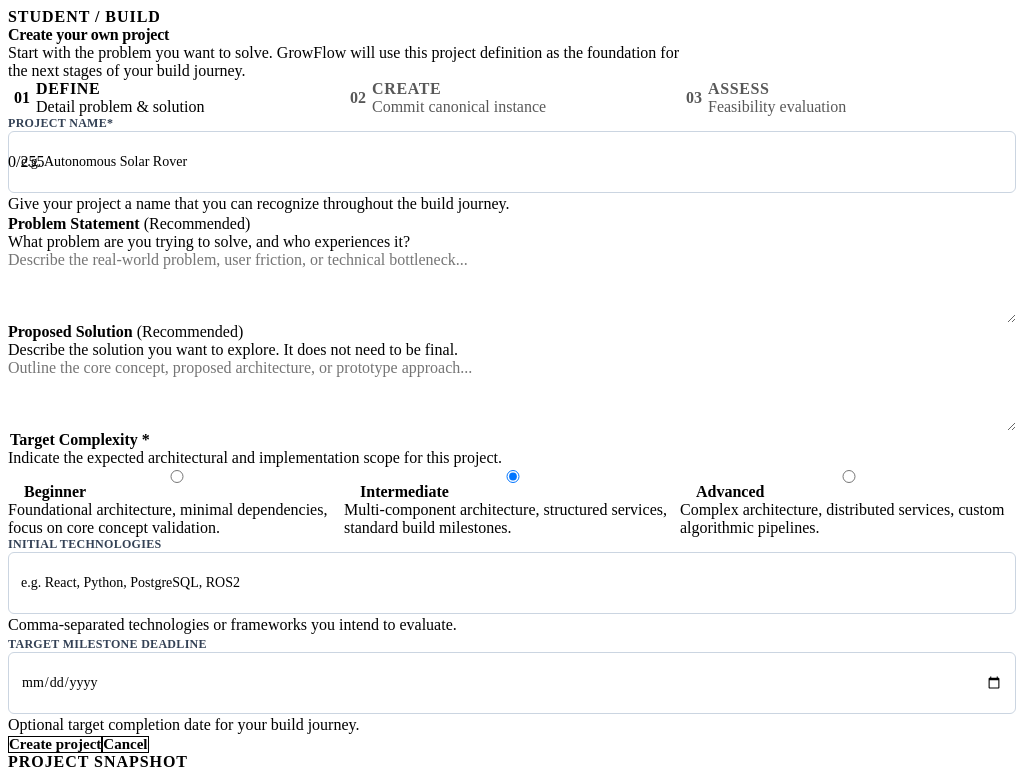
Test case: S03 — Student Project Create (/student/projects/new) › 12. preserves form data on 422 validation failure and displays calm message
Type "My Valid Title" into the field labelled "Project Name *" at (512, 162), box top-left (8, 131), bottom-right (1016, 193)
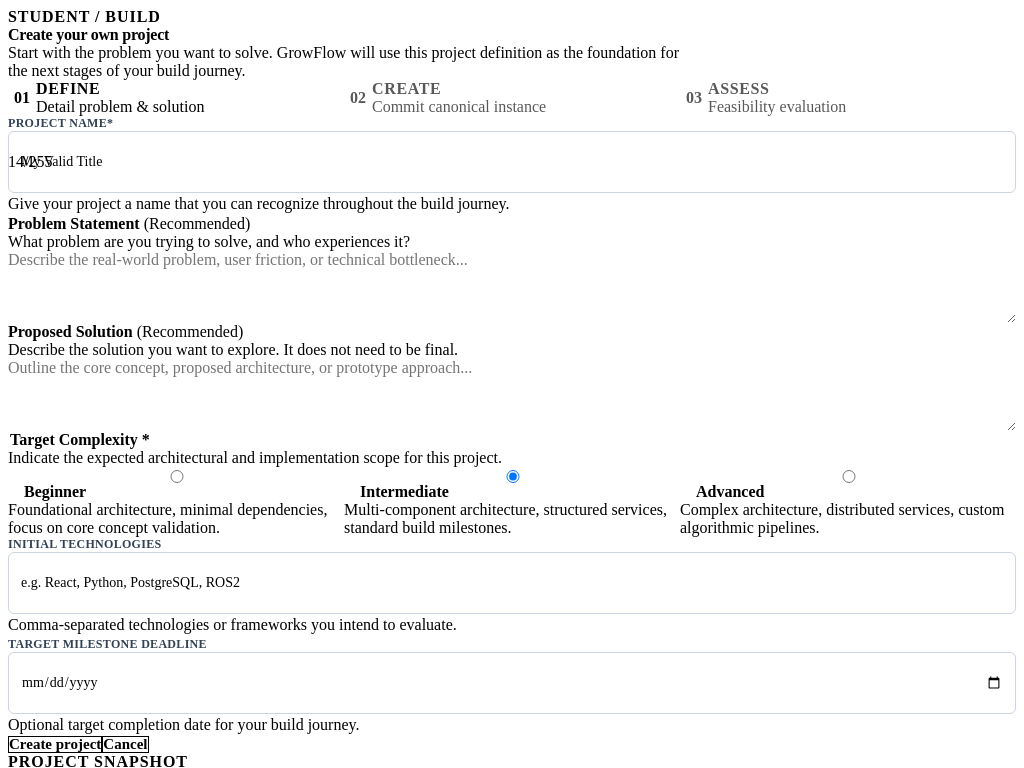
Replace the text in the text box labelled "Problem Statement (Recommended)" with "Preserved problem description" at (512, 287), box top-left (8, 251), bottom-right (1016, 323)
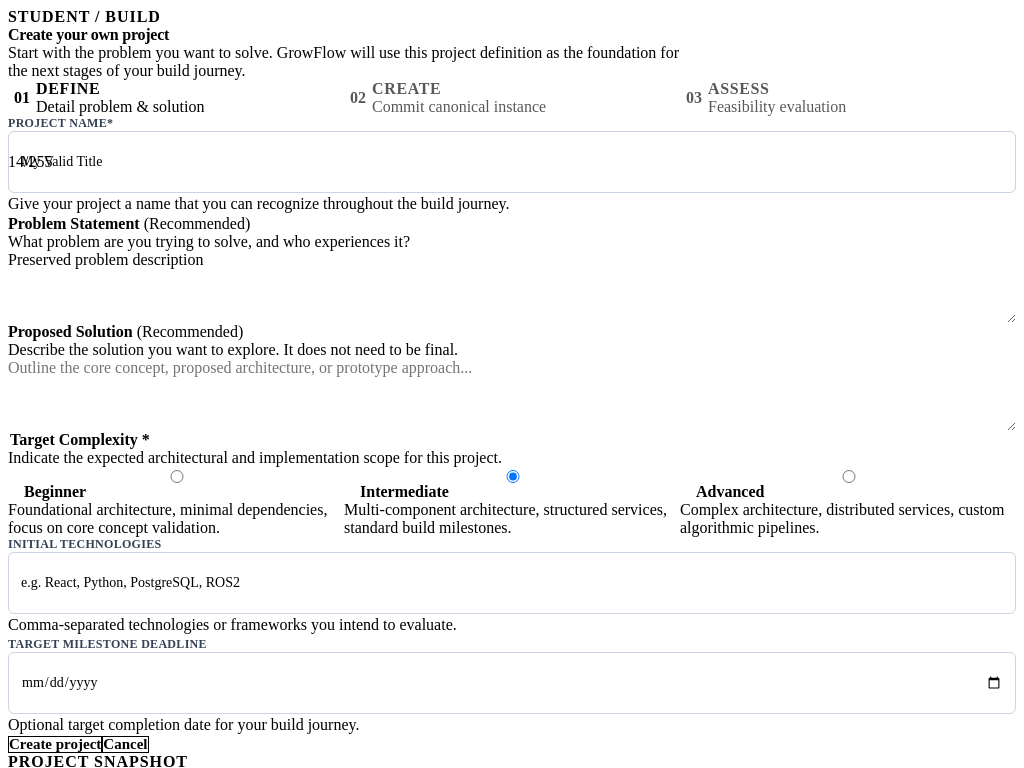
Click the button "Create project" at (55, 745), box top-left (8, 736), bottom-right (102, 753)
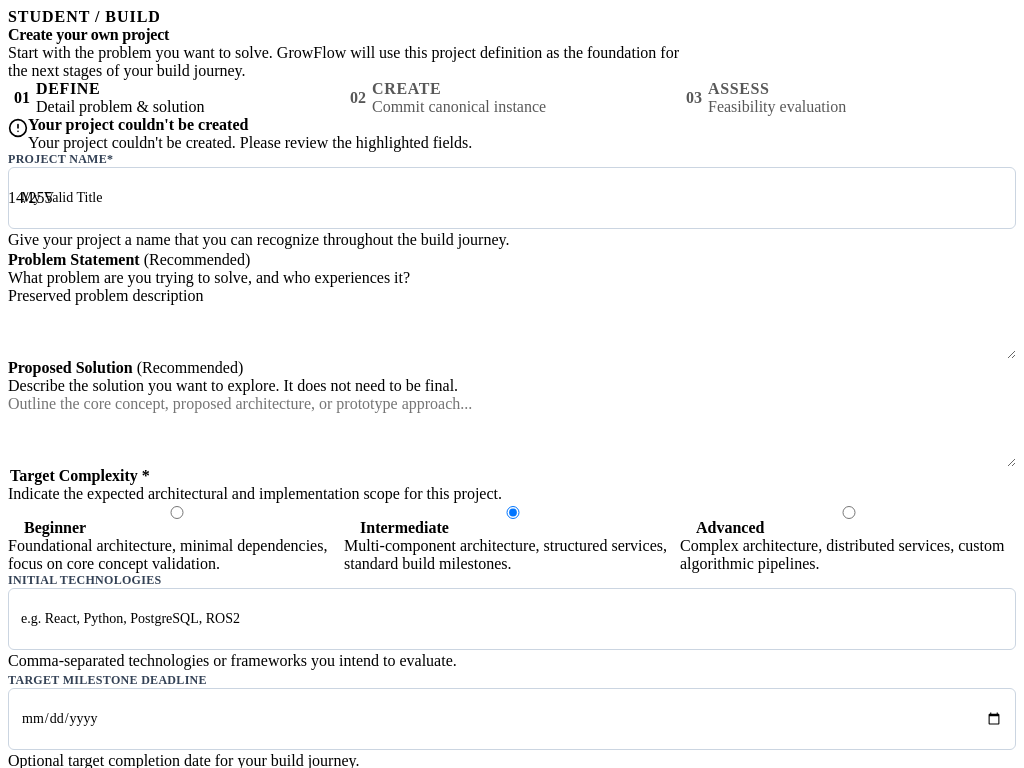
Check: the message is shown, box top-left (8, 116), bottom-right (472, 151)
Check: the text "Please review the highlighted fields" is shown, box top-left (28, 134), bottom-right (472, 151)
